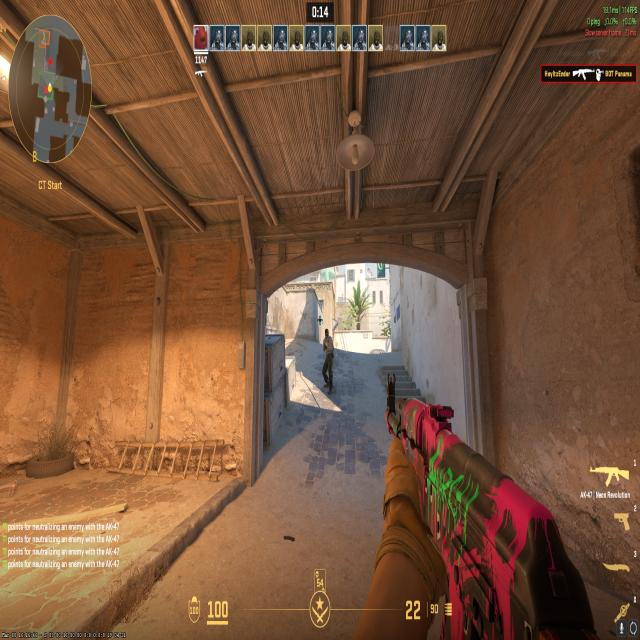t: (310, 314, 342, 402)
